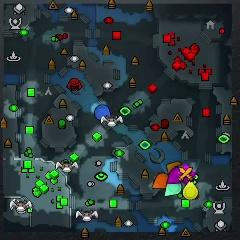Other: (178, 164, 195, 182)
p1: (94, 105, 111, 120)
p2: (165, 182, 182, 197)
p3: (168, 168, 182, 184)
p4: (183, 181, 199, 200)
p5: (152, 173, 168, 189)
x5: (166, 161, 181, 172)
